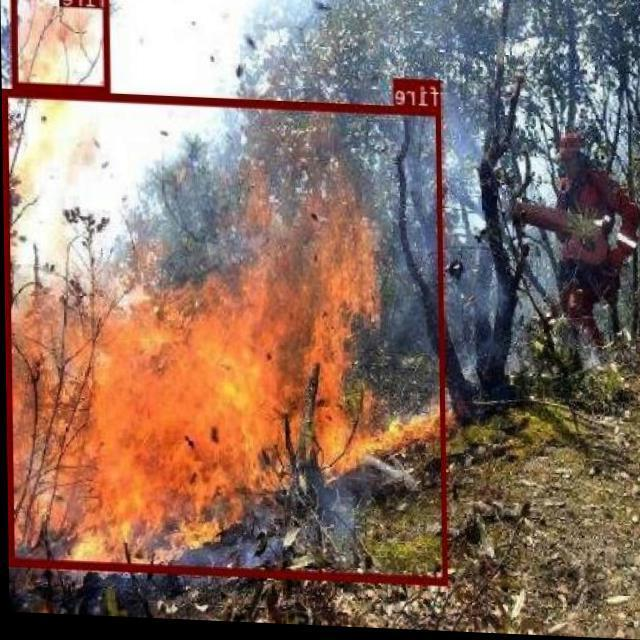Fire: (2, 94, 437, 579), (7, 0, 105, 91)
Smoke: (115, 0, 569, 597)
